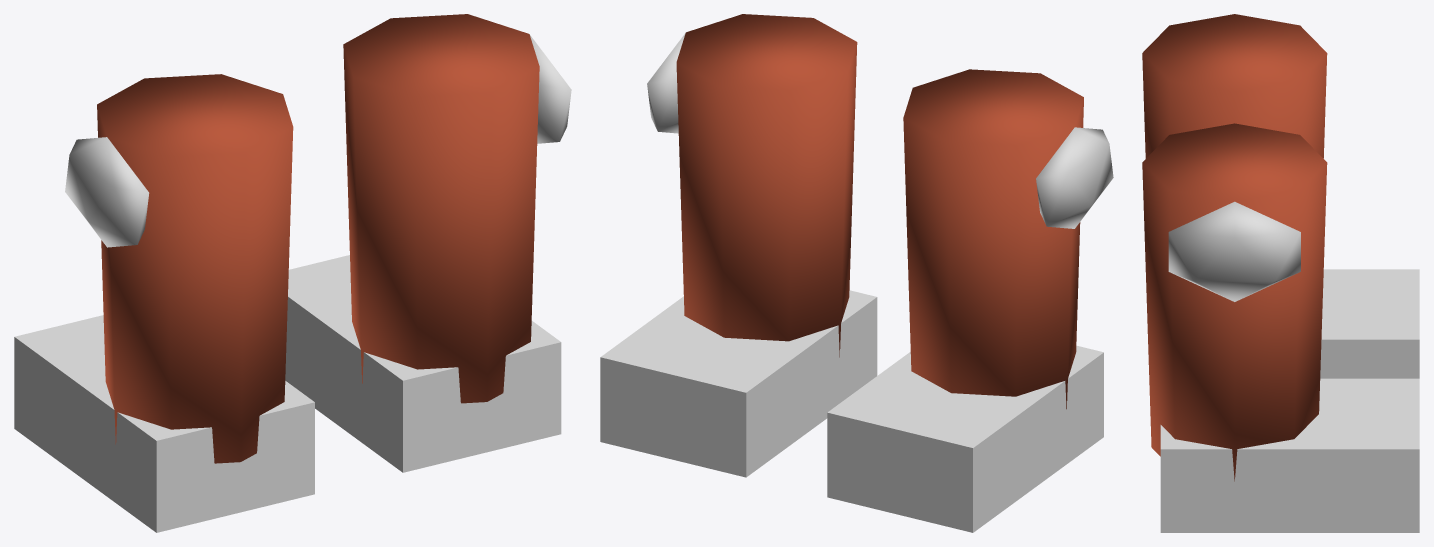
File: rocket_boots.glb
The picture shows the model from 3 angles, left to right: view 1: azimuth 30°, elevation 25°; view 2: azimuth 150°, elevation 25°; view 3: azimuth 270°, elevation 25°; orthographic projection. The views are drawn at different scales.
Visible parts, largest first — view 1: rocket_boots_v0; view 2: rocket_boots_v0; view 3: rocket_boots_v0.
Boxes of the visible parts, bbox=[...] form: rocket_boots_v0: bbox=[14, 14, 571, 532]; rocket_boots_v0: bbox=[600, 14, 1113, 532]; rocket_boots_v0: bbox=[1142, 14, 1419, 532].
Bounding box in the file's own units: 0.2615 × 0.2 × 0.15.
